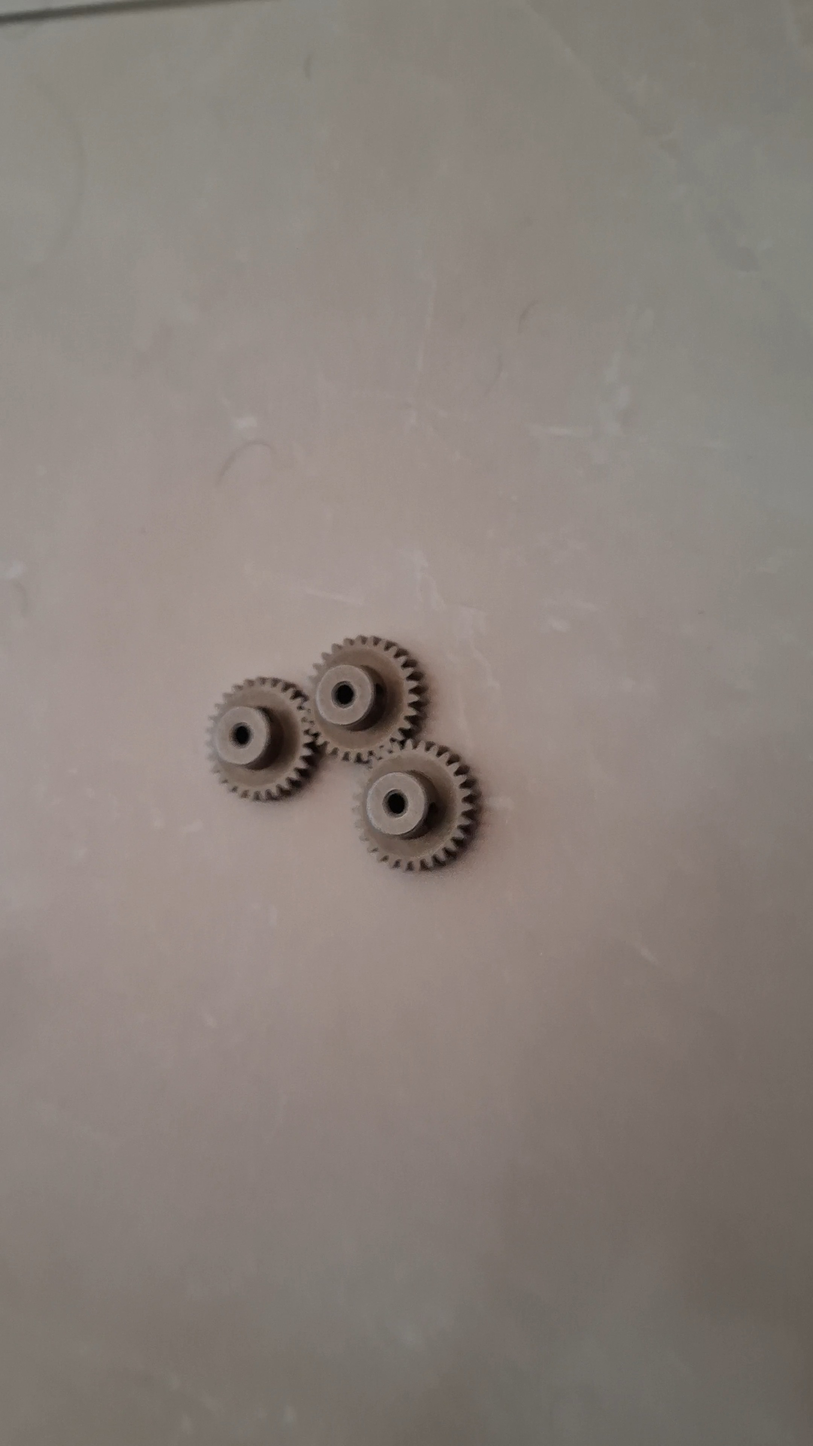spur gear: (356, 742, 478, 871), (309, 636, 423, 762), (210, 678, 317, 799)
